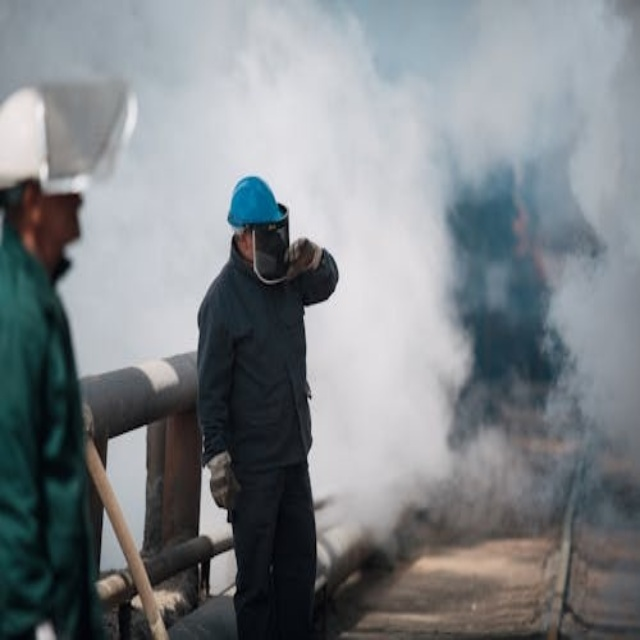Guantes: (206, 450, 243, 511), (283, 233, 321, 283)
